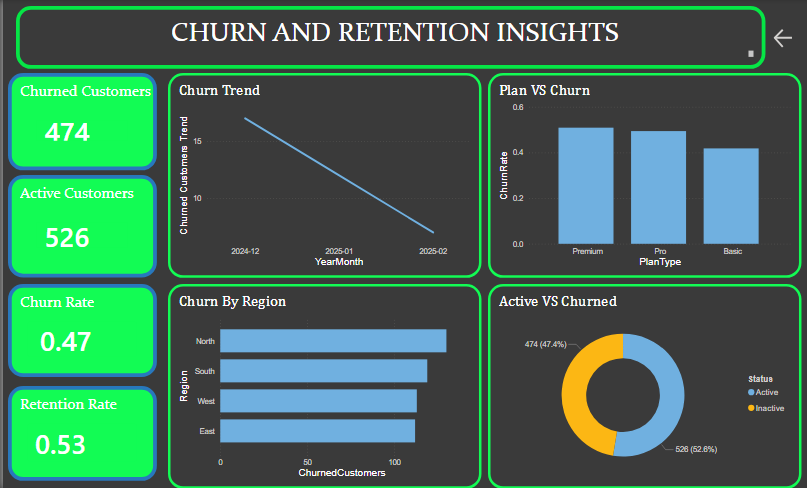

This screenshot's page, from the dashboard's own definition file:
{"tool":"powerbi","page":{"name":"C & R INSIGHTS","canvas":[1280,780],"ordinal":4},"visuals":[{"type":"cardVisual","title":"Churned Customers","fields":{"Data":["Subscription.Churned Customers Trend"]},"box":[8.4,117.6,236.9,154.5],"z":0},{"type":"cardVisual","title":"Active Customers","fields":{"Data":["Subscription.ActiveCustomers"]},"box":[8.4,280.5,236.9,162.9],"z":1000},{"type":"cardVisual","title":"Churn Rate","fields":{"Data":["Subscription.ChurnRate"]},"box":[8.4,453.5,236.9,147.8],"z":2000},{"type":"cardVisual","title":"Retention Rate","fields":{"Data":["Subscription.Retention Rate"]},"box":[8.4,616.5,236.9,151.2],"z":3000},{"type":"textbox","title":"CHURN AND RETENTION INSIGHTS","box":[21.3,11.5,1193.4,100],"z":4000},{"type":"lineChart","title":"Churn Trend","fields":{"Y":["Subscription.Churned Customers Trend"],"Category":["DateTable.YearMonth"]},"box":[262,117.6,498.9,325.9],"z":5000},{"type":"columnChart","title":"Plan VS Churn","fields":{"Category":["Subscription.PlanType"],"Y":["Subscription.ChurnRate"]},"box":[772.7,117.6,498.9,325.9],"z":6000},{"type":"barChart","title":"Churn By Region","fields":{"Category":["Customer_Master.Region"],"Y":["Subscription.ChurnedCustomers"]},"box":[262,453.5,498.9,325.9],"z":7000},{"type":"donutChart","title":"Active VS Churned","fields":{"Category":["Subscription.Status"],"Y":["Customer_Master.TotalCustomers"]},"box":[772.7,453.5,498.9,325.9],"z":8000},{"type":"actionButton","box":[1223,42.6,47.5,39.3],"z":9000}]}

Visuals, with their boxes in screenshot pixels (x1, y1, x2, y2), scaled from the page's 1280x780 canvas onto the 807x488 screenshot:
"Churned Customers" cardVisual: {"x1": 5, "y1": 74, "x2": 155, "y2": 170}
"Active Customers" cardVisual: {"x1": 5, "y1": 175, "x2": 155, "y2": 277}
"Churn Rate" cardVisual: {"x1": 5, "y1": 284, "x2": 155, "y2": 376}
"Retention Rate" cardVisual: {"x1": 5, "y1": 386, "x2": 155, "y2": 480}
"CHURN AND RETENTION INSIGHTS" textbox: {"x1": 13, "y1": 7, "x2": 766, "y2": 70}
"Churn Trend" lineChart: {"x1": 165, "y1": 74, "x2": 480, "y2": 277}
"Plan VS Churn" columnChart: {"x1": 487, "y1": 74, "x2": 802, "y2": 277}
"Churn By Region" barChart: {"x1": 165, "y1": 284, "x2": 480, "y2": 487}
"Active VS Churned" donutChart: {"x1": 487, "y1": 284, "x2": 802, "y2": 487}
actionButton: {"x1": 771, "y1": 27, "x2": 801, "y2": 51}
